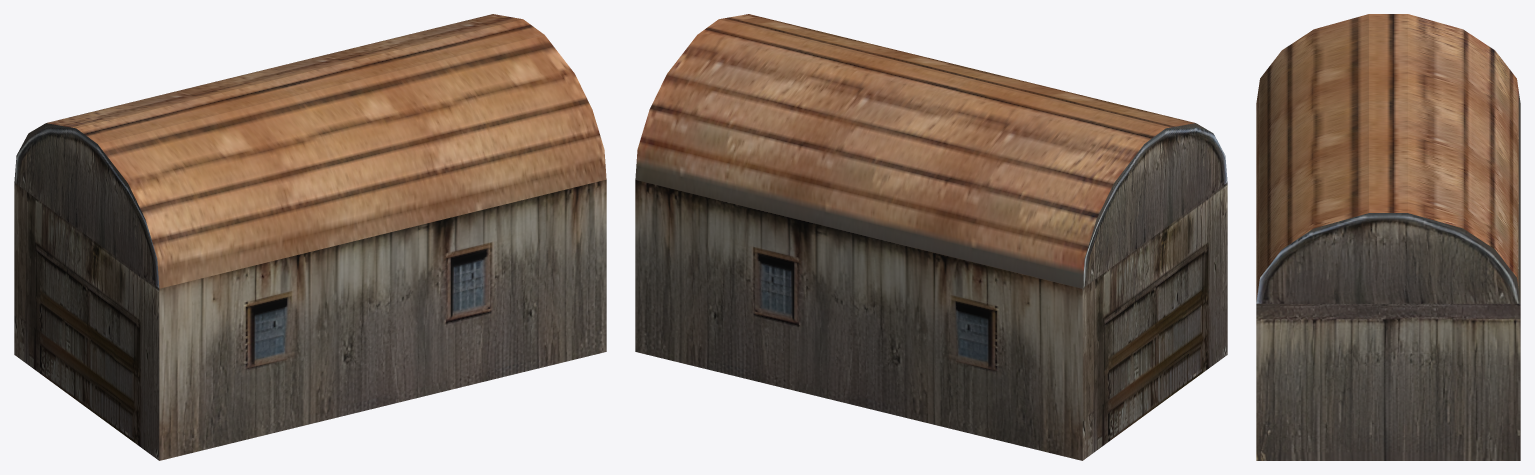
The model's file is farmbarn.gltf.
3 views of the same model, side by side, from view 1: azimuth 30°, elevation 25°; view 2: azimuth 150°, elevation 25°; view 3: azimuth 270°, elevation 25° (orthographic). The views are drawn at different scales.
Visible parts, largest first — view 1: farmbarn_atomic0; view 2: farmbarn_atomic0; view 3: farmbarn_atomic0.
Boxes of the visible parts, x1,y1,x2,y2 form: farmbarn_atomic0: (14, 14, 606, 460); farmbarn_atomic0: (635, 14, 1227, 460); farmbarn_atomic0: (1256, 14, 1520, 460).
Bounding box in the file's own units: 31.6 × 18.34 × 17.75.
1 material, 1 textured.
